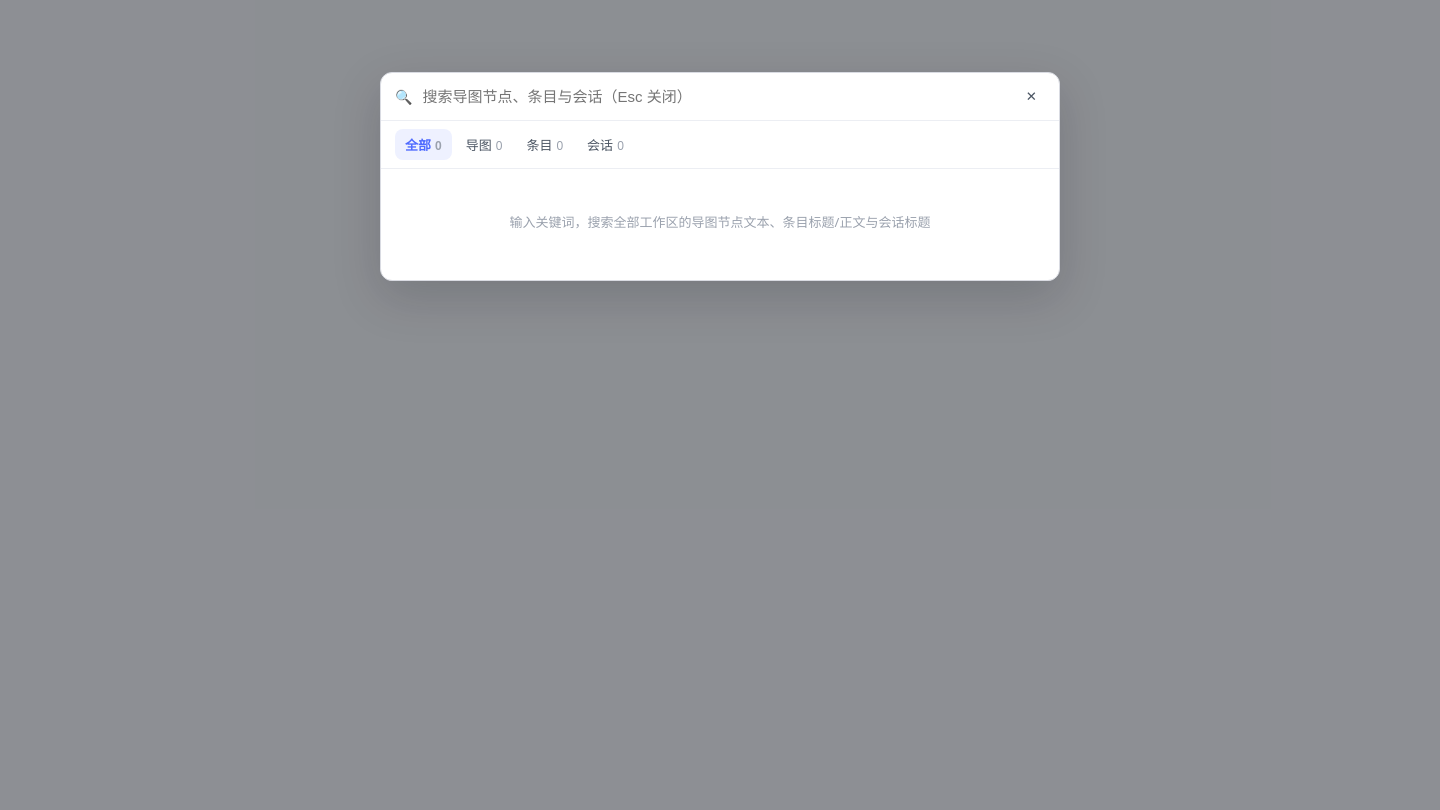
Test: SearchOverlay 全局搜索浮层 › 接口失败显示错误提示
Step 1. Type "布局" into the field named "搜索关键词" → (715, 96), box [420,87,1010,106]
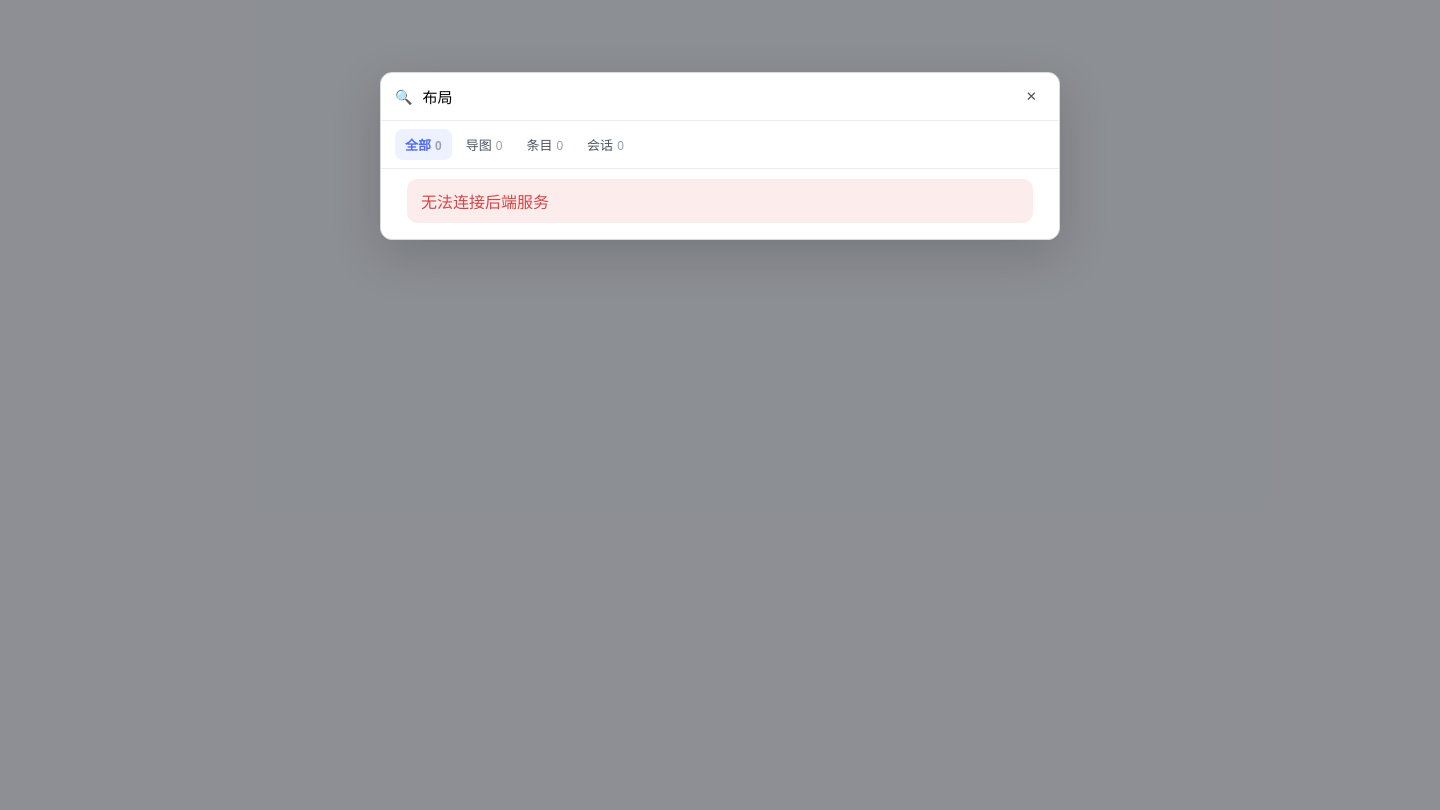
Expected: the message reads "无法连接后端服务", [421,191,549,213]
